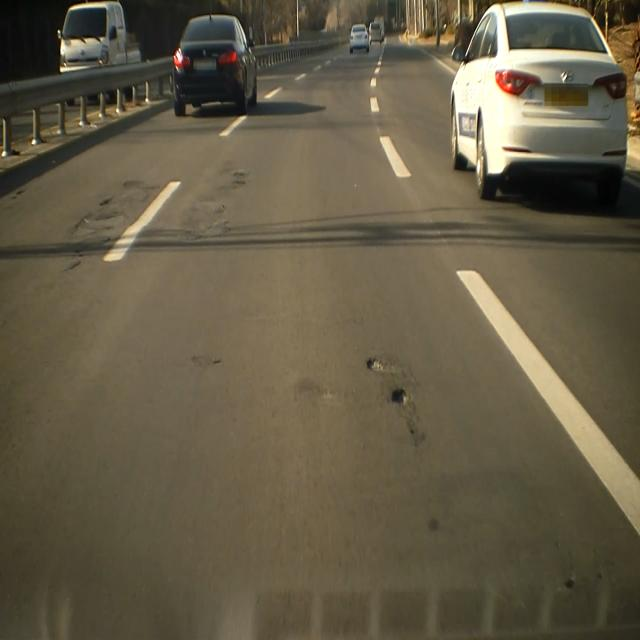Pothole: (66, 176, 152, 284), (364, 351, 425, 448)
